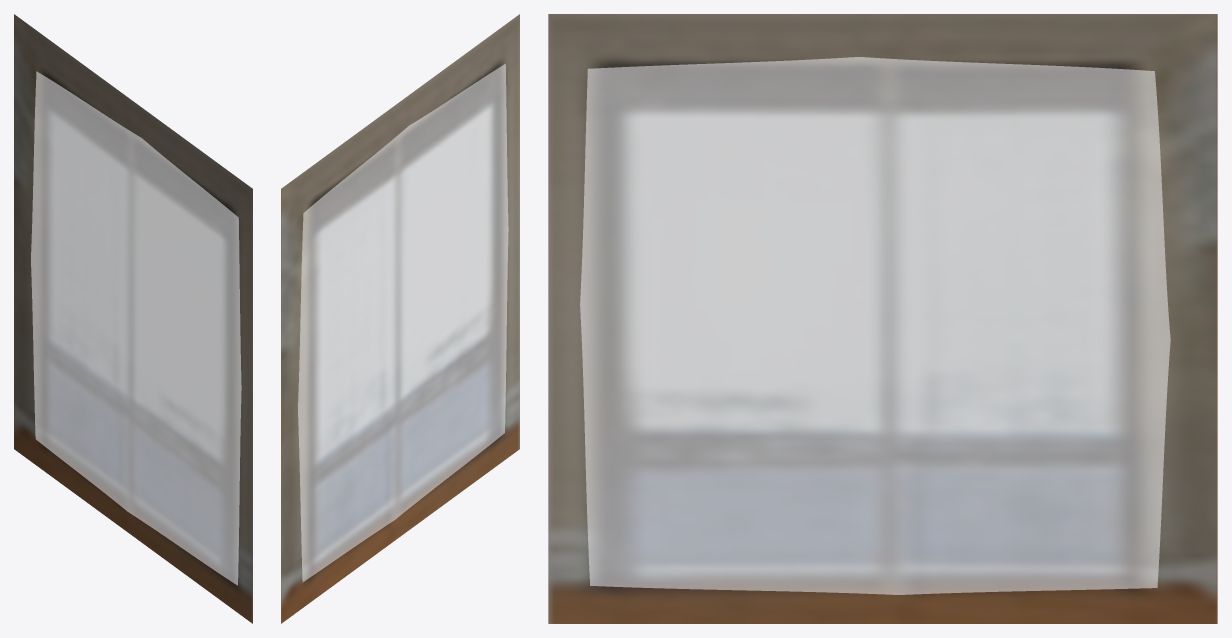
The model's file is wall.006.obj.
The picture shows the model from 3 angles, left to right: view 1: azimuth 30°, elevation 25°; view 2: azimuth 150°, elevation 25°; view 3: azimuth 270°, elevation 25°; orthographic projection. The views are drawn at different scales.
Parts seen in each view (by area): view 1: wall.006; view 2: wall.006; view 3: wall.006.
Boxes of the visible parts, x1=… form: wall.006: x1=14, y1=14, x2=252, y2=623; wall.006: x1=281, y1=14, x2=519, y2=623; wall.006: x1=548, y1=14, x2=1217, y2=623.
Bounding box in the file's own units: 9.16e-05 × 75.02 × 74.6.
